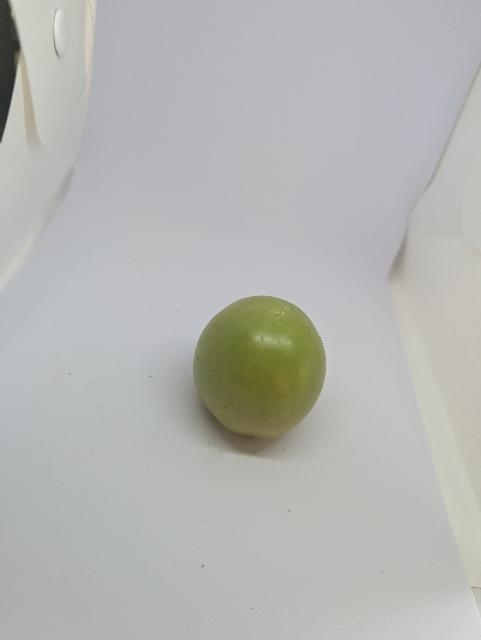green: (158, 273, 343, 491)
